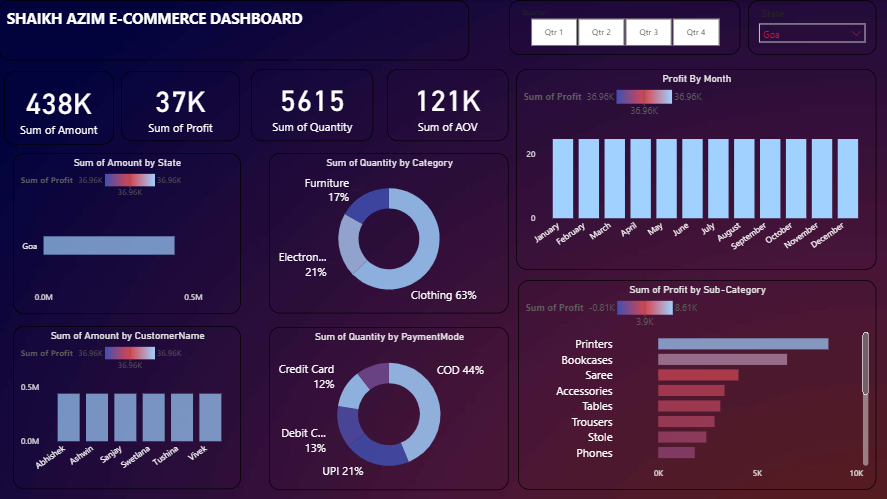

The dashboard page shown, as its layout file describes it:
{"tool":"powerbi","page":{"name":"Page 1","canvas":[1280,720],"ordinal":0},"visuals":[{"type":"textbox","box":[0,0,677,87.3],"z":0},{"type":"columnChart","title":"Profit By Month","fields":{"Y":["Avg(Details.Profit)"],"Category":["Orders.Order Date.Variation.Date Hierarchy.Month"]},"box":[744.1,99.1,519.1,288.9],"z":1000},{"type":"barChart","fields":{"Category":["Details.Sub-Category"],"Y":["Sum(Details.Profit)"]},"box":[747.5,403.1,515.7,302.4],"z":2000},{"type":"donutChart","fields":{"Category":["Details.Category"],"Y":["Sum(Details.Quantity)"]},"box":[388.1,220.2,345.5,231.2],"z":3000},{"type":"donutChart","fields":{"Category":["Details.PaymentMode"],"Y":["Sum(Details.Quantity)"]},"box":[388.1,470.7,345.5,235.4],"z":4000},{"type":"card","fields":{"Values":["Sum(Details.Amount)"]},"box":[6.7,102.5,157.9,105.8],"z":5000},{"type":"card","fields":{"Values":["Sum(Details.Quantity)"]},"box":[362.8,99.1,176.4,104.1],"z":6000},{"type":"card","fields":{"Values":["Sum(Details.Profit)"]},"box":[176.4,102.5,171.3,100.8],"z":7000},{"type":"card","fields":{"Values":["Sum(Details.AOV)"]},"box":[559.4,99.1,174.7,104.1],"z":8000},{"type":"barChart","fields":{"Y":["Sum(Details.Amount)"],"Category":["Orders.State"]},"box":[20.2,220.1,327.6,231.8],"z":9000},{"type":"columnChart","fields":{"Category":["Orders.CustomerName"],"Y":["Sum(Details.Amount)"]},"box":[20,470,328.3,235],"z":10000},{"type":"slicer","fields":{"Values":["Orders.Order Date.Variation.Date Hierarchy.Quarter"]},"box":[734.1,0,332.6,79],"z":11000},{"type":"slicer","fields":{"Values":["Orders.State"]},"box":[1078.4,0,184.8,79],"z":12000}]}

Visuals, with their boxes in screenshot pixels (x1, y1, x2, y2), scaled from the page's 1280x720 canvas onto the 887x499 screenshot:
textbox: x1=0, y1=0, x2=469, y2=61
"Profit By Month" columnChart: x1=516, y1=69, x2=875, y2=269
barChart - Details.Sub-Category x Sum(Details.Profit): x1=518, y1=279, x2=875, y2=489
donutChart - Details.Category x Sum(Details.Quantity): x1=269, y1=153, x2=508, y2=313
donutChart - Details.PaymentMode x Sum(Details.Quantity): x1=269, y1=326, x2=508, y2=489
card - Sum(Details.Amount): x1=5, y1=71, x2=114, y2=144
card - Sum(Details.Quantity): x1=251, y1=69, x2=374, y2=141
card - Sum(Details.Profit): x1=122, y1=71, x2=241, y2=141
card - Sum(Details.AOV): x1=388, y1=69, x2=509, y2=141
barChart - Sum(Details.Amount) x Orders.State: x1=14, y1=153, x2=241, y2=313
columnChart - Orders.CustomerName x Sum(Details.Amount): x1=14, y1=326, x2=241, y2=489
slicer - Orders.Order Date.Variation.Date Hierarchy.Quarter: x1=509, y1=0, x2=739, y2=55
slicer - Orders.State: x1=747, y1=0, x2=875, y2=55
